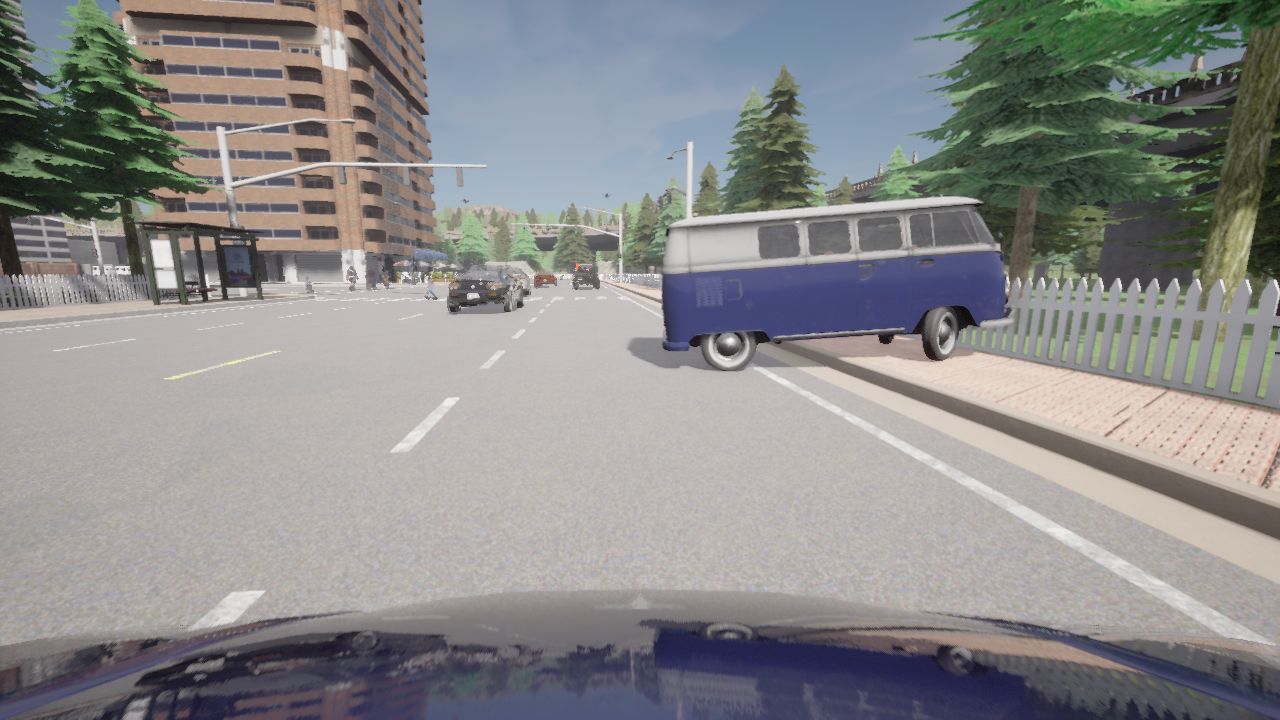cyclist: (0, 588, 1279, 719), (661, 196, 1014, 371), (448, 266, 523, 312), (500, 266, 529, 295), (575, 265, 598, 288), (78, 264, 116, 277), (574, 262, 593, 283), (535, 270, 558, 286), (104, 264, 130, 274), (556, 272, 562, 280)
pedestrian: (425, 273, 437, 298), (348, 266, 356, 289), (367, 266, 375, 289), (382, 265, 389, 288), (306, 277, 313, 292)
